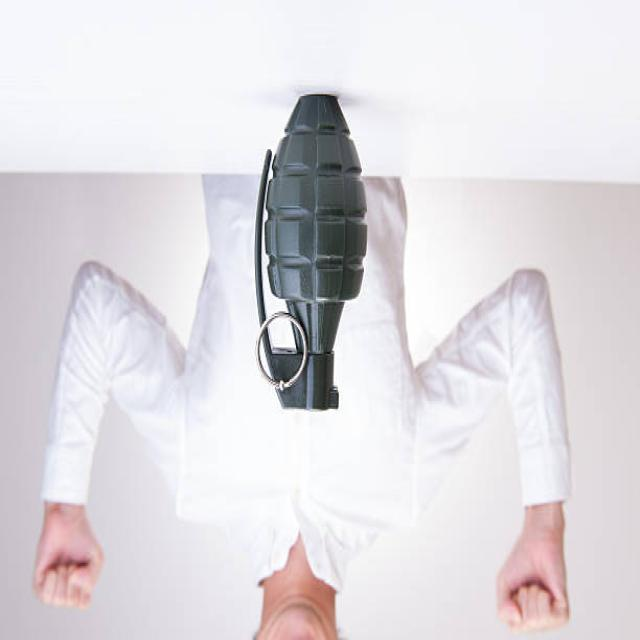grenade: (246, 89, 376, 420)
